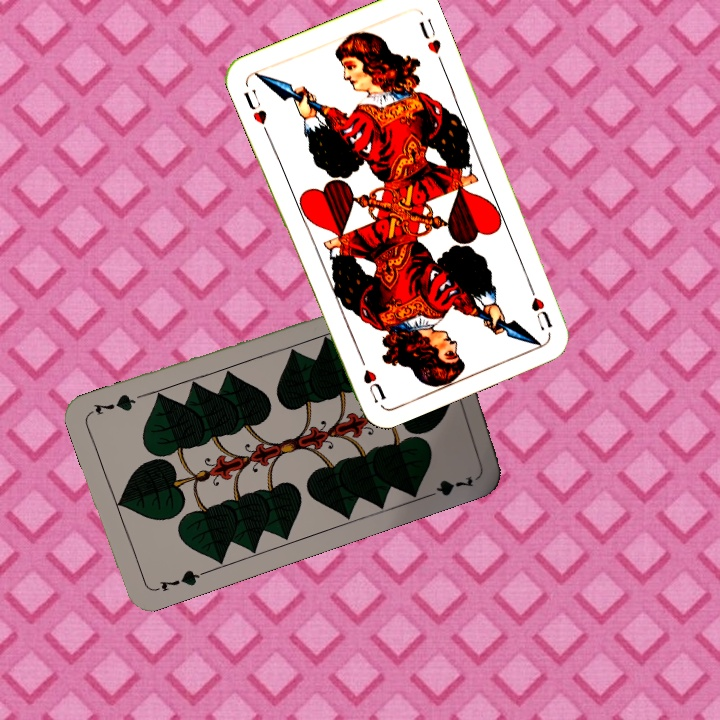G7: (149, 565, 207, 595)
HU: (524, 278, 555, 332), (239, 85, 271, 137)
